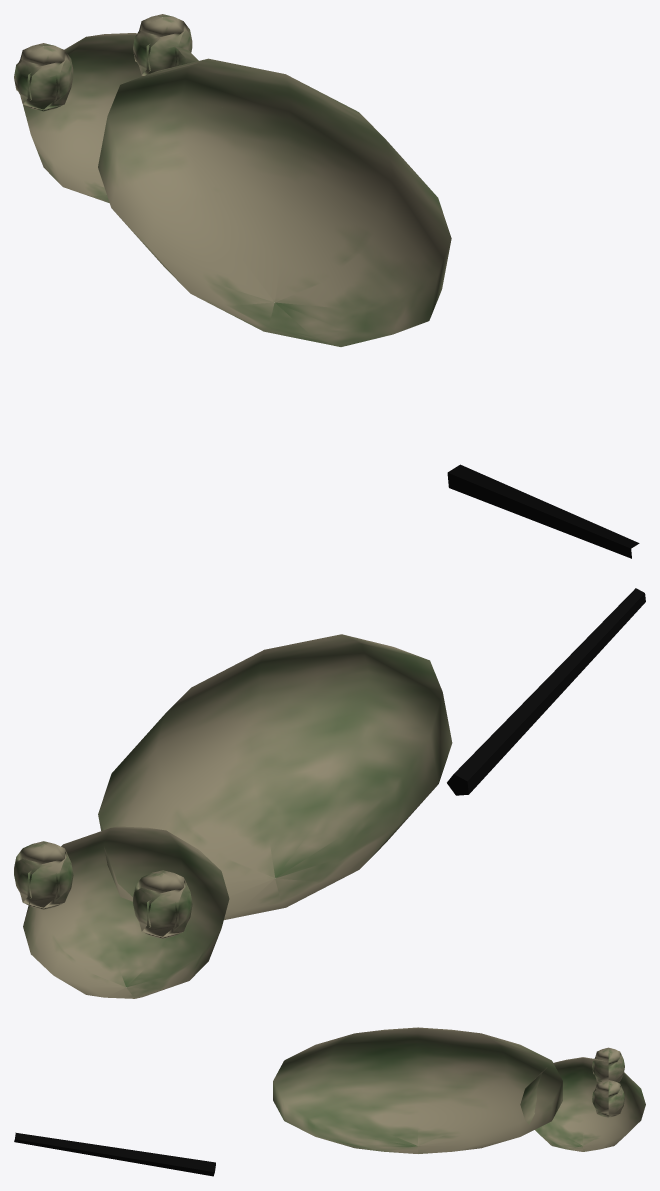
The model's file is dead_rat.glb.
The picture shows the model from 3 angles, top to bottom: view 1: azimuth 30°, elevation 25°; view 2: azimuth 150°, elevation 25°; view 3: azimuth 270°, elevation 25°; orthographic projection. The views are drawn at different scales.
Visible parts, largest first — view 1: Body, Head, Tail, Ear0, Ear0_2; view 2: Body, Head, Tail, Ear0_2, Ear0; view 3: Body, Head, Tail, Ear0_2, Ear0.
Boxes of the visible parts, box(x1,y1,x2,y2) form: Body: box(98, 58, 451, 346); Head: box(23, 33, 198, 202); Tail: box(447, 464, 639, 558); Ear0: box(14, 43, 73, 111); Ear0_2: box(133, 14, 192, 75); Body: box(98, 634, 452, 919); Head: box(23, 826, 229, 998); Tail: box(447, 588, 645, 795); Ear0_2: box(14, 841, 73, 909); Ear0: box(133, 870, 192, 938); Body: box(273, 1027, 562, 1153); Head: box(520, 1057, 645, 1151); Tail: box(14, 1132, 215, 1176); Ear0_2: box(592, 1080, 624, 1117); Ear0: box(592, 1047, 624, 1082).
Bounding box in the file's own units: 0.12 × 0.1216 × 0.4977.
2 materials, 2 textured.
